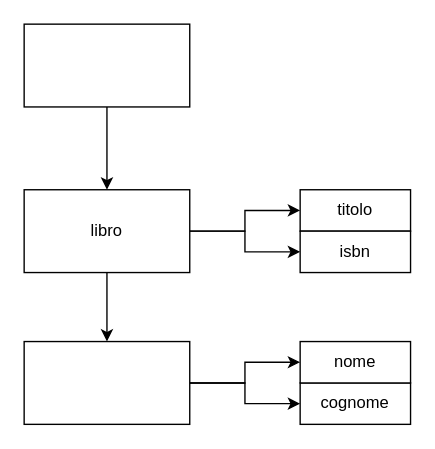
Some shapes in this 435 by 449 pixel diagram are drawn without their labels. Here are the shapes that lost their labels. From the top down, the centre of each, then its label:
(x=106, y=65): libri
(x=106, y=382): autore
